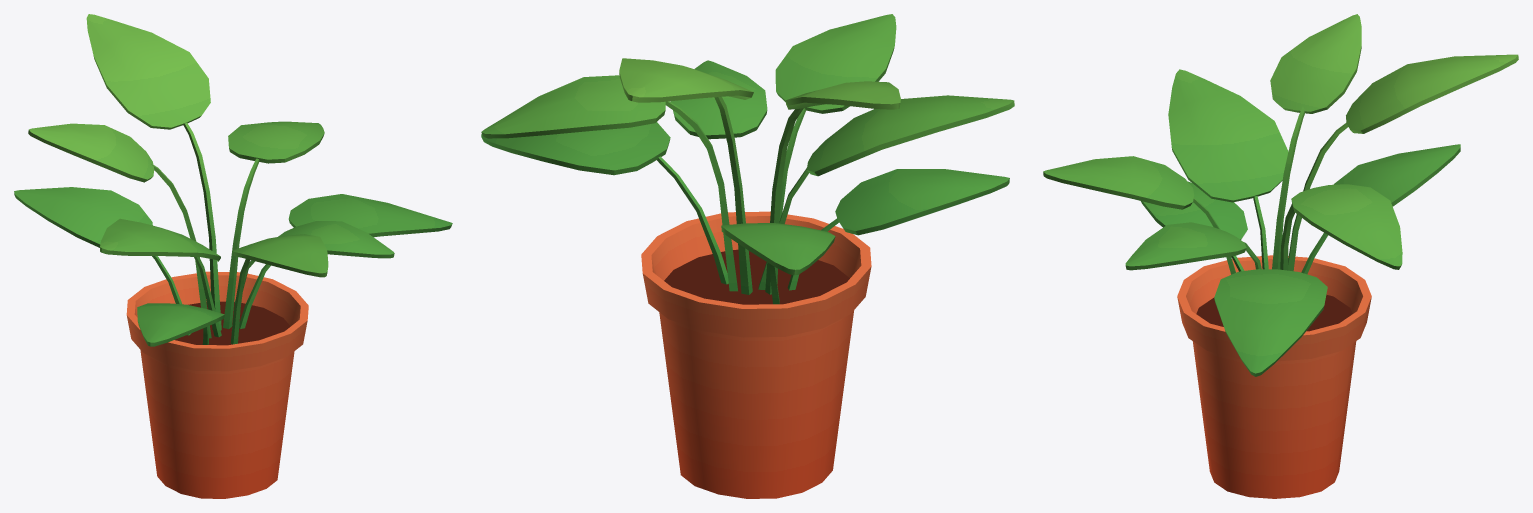
Rendered from sm_futuristic_potplant.fbx.
3 views of the same model, side by side, from view 1: azimuth 30°, elevation 25°; view 2: azimuth 150°, elevation 25°; view 3: azimuth 270°, elevation 25° (orthographic). The views are drawn at different scales.
Parts seen in each view (by area): view 1: sm_futuristic_potplant; view 2: sm_futuristic_potplant; view 3: sm_futuristic_potplant.
Part boxes in pixels (bbox=[...]): sm_futuristic_potplant: bbox=[14, 14, 452, 498]; sm_futuristic_potplant: bbox=[481, 14, 1014, 498]; sm_futuristic_potplant: bbox=[1043, 14, 1518, 498].
Bounding box in the file's own units: 186 × 184 × 175.
